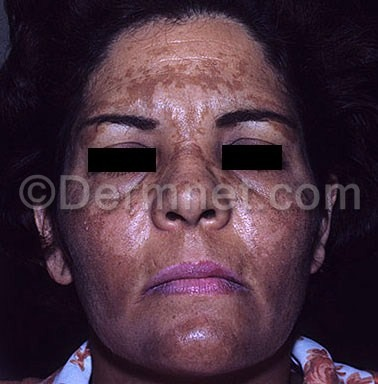Melasma: (62, 214, 145, 321), (110, 55, 242, 106), (147, 310, 244, 371), (244, 210, 298, 319), (170, 103, 205, 174)
